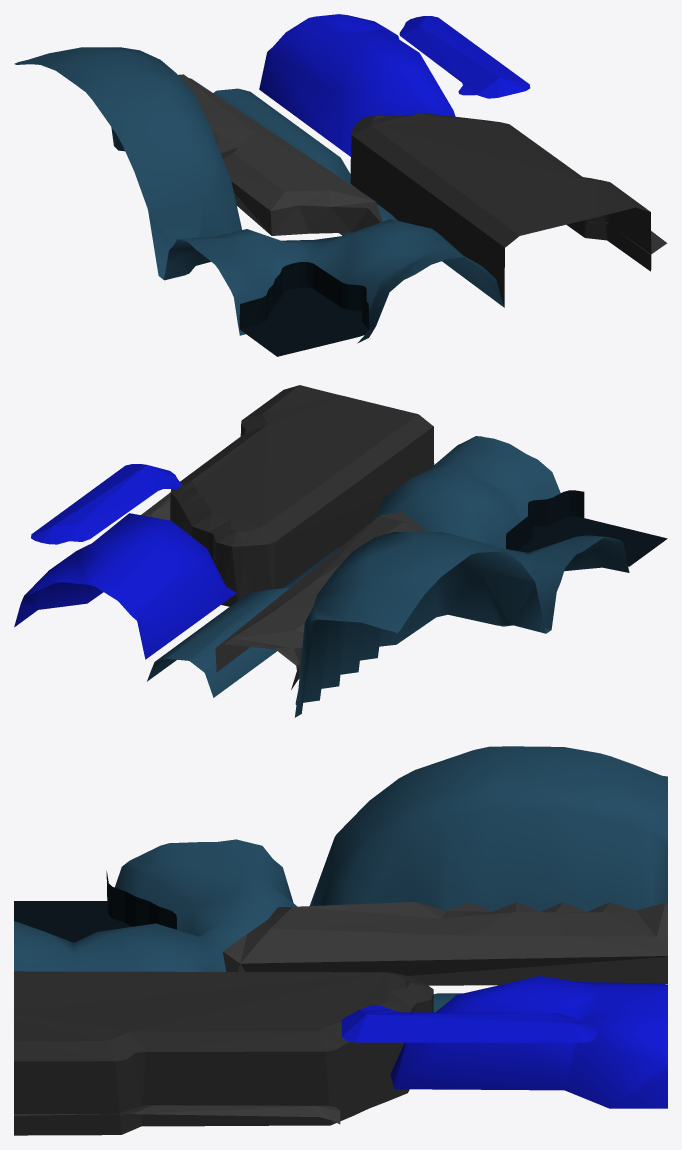
Rendered from newshb-83.glb.
3 views of the same model, one above another, from view 1: azimuth 30°, elevation 25°; view 2: azimuth 150°, elevation 25°; view 3: azimuth 270°, elevation 25° (orthographic). The views are drawn at different scales.
Visible parts, largest first — view 1: newshb-83; view 2: newshb-83; view 3: newshb-83.
Boxes of the visible parts, box(x1,y1,x2,y2) form: newshb-83: box(14, 14, 667, 356); newshb-83: box(14, 385, 667, 717); newshb-83: box(14, 746, 667, 1135).
Bounding box in the file's own units: 2 × 0.6706 × 2.33.
